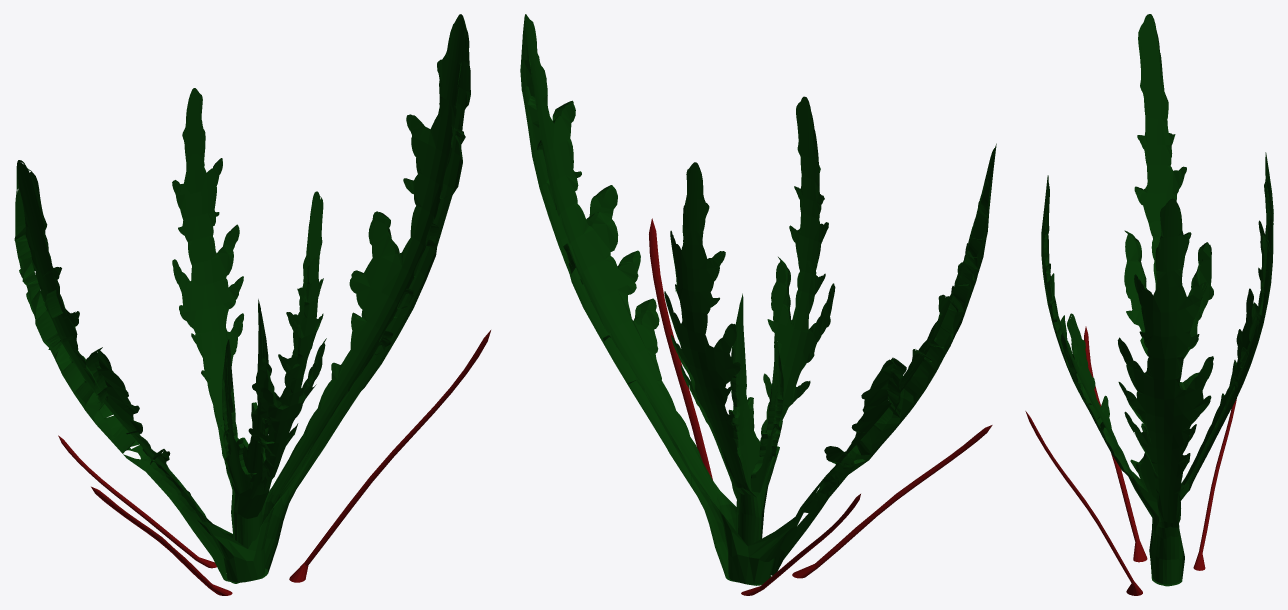
The model's file is seaweed2.obj.
3 views of the same model, side by side, from view 1: azimuth 30°, elevation 25°; view 2: azimuth 150°, elevation 25°; view 3: azimuth 270°, elevation 25° (orthographic). The views are drawn at different scales.
Parts seen in each view (by area): view 1: Kalanhoe_2, Kalanhoe_8, Kalanhoe_S, Kalanhoe_3, Kalanhoe_6, Kalanhoe_1, Kalanhoe_5, Kalanhoe_0, Kalanhoe14, Kalanhoe19, Kalanhoe11, Kalanhoe17 (+3 smaller); view 2: Kalanhoe_2, Kalanhoe_8, Kalanhoe_5, Kalanhoe_3, Kalanhoe_S, Kalanhoe_1, Kalanhoe_0, Kalanhoe11, Kalanhoe19, Kalanhoe14, Kalanhoe17, Kalanhoe10 (+2 smaller); view 3: Kalanhoe_2, Kalanhoe_S, Kalanhoe_5, Kalanhoe_8, Kalanhoe_9, Kalanhoe_6, Kalanhoe19, Kalanhoe17, Kalanhoe_7, Kalanhoe18, Kalanhoe_4, Kalanhoe11 (+2 smaller).
Part boxes in pixels (x1,y1,x2,y2): Kalanhoe_2: (248,15,465,580); Kalanhoe_8: (172,88,243,537); Kalanhoe_S: (17,160,253,583); Kalanhoe_3: (264,23,470,572); Kalanhoe_6: (239,194,321,548); Kalanhoe_1: (15,160,213,534); Kalanhoe_5: (234,193,326,543); Kalanhoe_0: (14,191,226,578); Kalanhoe14: (221,339,256,494); Kalanhoe19: (289,330,490,582); Kalanhoe11: (242,299,268,486); Kalanhoe17: (91,486,232,595); Kalanhoe_2: (525,15,747,582); Kalanhoe_8: (664,162,761,545); Kalanhoe_5: (760,98,835,538); Kalanhoe_3: (520,21,728,575); Kalanhoe_S: (737,146,995,585); Kalanhoe_1: (800,143,996,514); Kalanhoe_0: (771,149,995,575); Kalanhoe11: (728,295,760,491); Kalanhoe19: (649,218,712,479); Kalanhoe14: (750,333,783,492); Kalanhoe17: (792,425,992,578); Kalanhoe10: (668,162,739,533); Kalanhoe_2: (1117,199,1213,584); Kalanhoe_S: (1124,15,1213,557); Kalanhoe_5: (1046,177,1158,523); Kalanhoe_8: (1180,153,1267,490); Kalanhoe_9: (1180,157,1273,500); Kalanhoe_6: (1041,178,1157,539); Kalanhoe19: (1025,411,1142,595); Kalanhoe17: (1084,326,1147,562); Kalanhoe_7: (1044,175,1144,498); Kalanhoe18: (1193,398,1236,570); Kalanhoe_4: (1122,198,1207,586); Kalanhoe11: (1136,423,1186,499).
Bounding box in the file's own units: 433 × 456 × 215.
